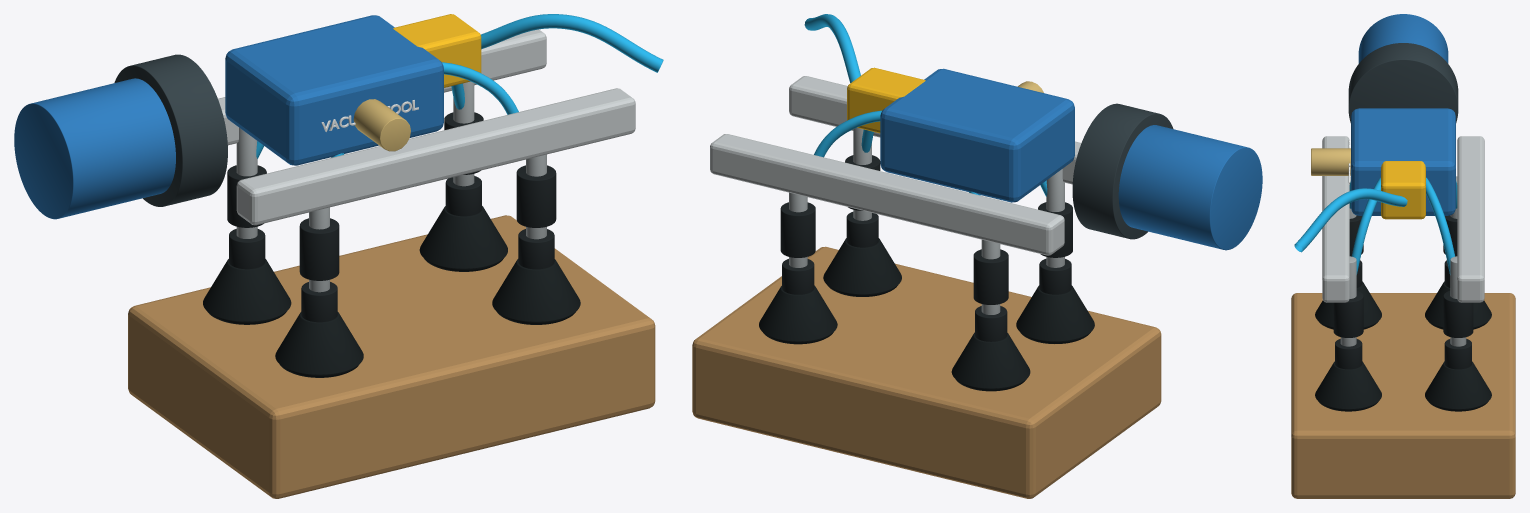
The model's file is vacuum_multi_cup_gripper.glb.
3 renders of one model, left to right at view 1: azimuth 30°, elevation 25°; view 2: azimuth 150°, elevation 25°; view 3: azimuth 270°, elevation 25°, orthographic. The views are drawn at different scales.
Parts seen in each view (by area): view 1: CARTON_WORKPIECE, VACUUM_MANIFOLD, CROSSBEAM_-0.27, ROBOT_WRIST, ROBOT_INTERFACE, SUCTION_CUP_0.38_-0.22, SUCTION_CUP_-0.38_0.22, SUCTION_CUP_-0.38_-0.22, SUCTION_CUP_0.38_0.22, VACUUM_EJECTOR, CROSSBEAM_0.27, SUPPLY_AIR (+11 smaller); view 2: CARTON_WORKPIECE, VACUUM_MANIFOLD, CROSSBEAM_0.27, ROBOT_WRIST, ROBOT_INTERFACE, SUCTION_CUP_0.38_-0.22, SUCTION_CUP_-0.38_-0.22, SUCTION_CUP_-0.38_0.22, SUCTION_CUP_0.38_0.22, CROSSBEAM_-0.27, VACUUM_EJECTOR, COMPLIANCE_SLEEVE_-0.38_0.22 (+10 smaller); view 3: CARTON_WORKPIECE, VACUUM_MANIFOLD, ROBOT_INTERFACE, CROSSBEAM_0.27, CROSSBEAM_-0.27, ROBOT_WRIST, VACUUM_EJECTOR, SUCTION_CUP_0.38_0.22, SUCTION_CUP_0.38_-0.22, SUPPLY_AIR, COMPLIANCE_SLEEVE_0.38_0.22, COMPLIANCE_SLEEVE_0.38_-0.22 (+11 smaller).
Boxes of the visible parts, x1,y1,x2,y2 form: CARTON_WORKPIECE: (128,215,655,498); VACUUM_MANIFOLD: (225,15,443,165); CROSSBEAM_-0.27: (236,88,635,225); ROBOT_WRIST: (14,78,175,219); ROBOT_INTERFACE: (114,54,227,206); SUCTION_CUP_0.38_-0.22: (492,259,580,321); SUCTION_CUP_-0.38_0.22: (203,259,291,321); SUCTION_CUP_-0.38_-0.22: (275,312,363,374); SUCTION_CUP_0.38_0.22: (419,206,507,268); VACUUM_EJECTOR: (393,14,481,87); CROSSBEAM_0.27: (218,29,546,145); SUPPLY_AIR: (481,14,663,72); CARTON_WORKPIECE: (692,246,1161,498); VACUUM_MANIFOLD: (880,68,1074,202); CROSSBEAM_0.27: (710,134,1064,255); ROBOT_WRIST: (1118,125,1262,250); ROBOT_INTERFACE: (1072,103,1173,239); SUCTION_CUP_0.38_-0.22: (823,238,901,294); SUCTION_CUP_-0.38_-0.22: (1016,285,1094,341); SUCTION_CUP_-0.38_0.22: (951,332,1030,388); SUCTION_CUP_0.38_0.22: (759,285,837,341); CROSSBEAM_-0.27: (789,76,1081,184); VACUUM_EJECTOR: (847,67,925,133); COMPLIANCE_SLEEVE_-0.38_0.22: (973,249,1008,304); CARTON_WORKPIECE: (1291,293,1515,498); VACUUM_MANIFOLD: (1351,108,1455,215); ROBOT_INTERFACE: (1348,43,1458,122); CROSSBEAM_0.27: (1457,136,1484,302); CROSSBEAM_-0.27: (1322,136,1349,302); ROBOT_WRIST: (1358,14,1448,63); VACUUM_EJECTOR: (1381,161,1425,219); SUCTION_CUP_0.38_0.22: (1425,361,1491,409); SUCTION_CUP_0.38_-0.22: (1315,361,1381,409); SUPPLY_AIR: (1294,188,1407,252); COMPLIANCE_SLEEVE_0.38_0.22: (1443,291,1473,337); COMPLIANCE_SLEEVE_0.38_-0.22: (1333,291,1363,337).
Size of the model in its own units: 1.94 by 1.31 by 0.9.
